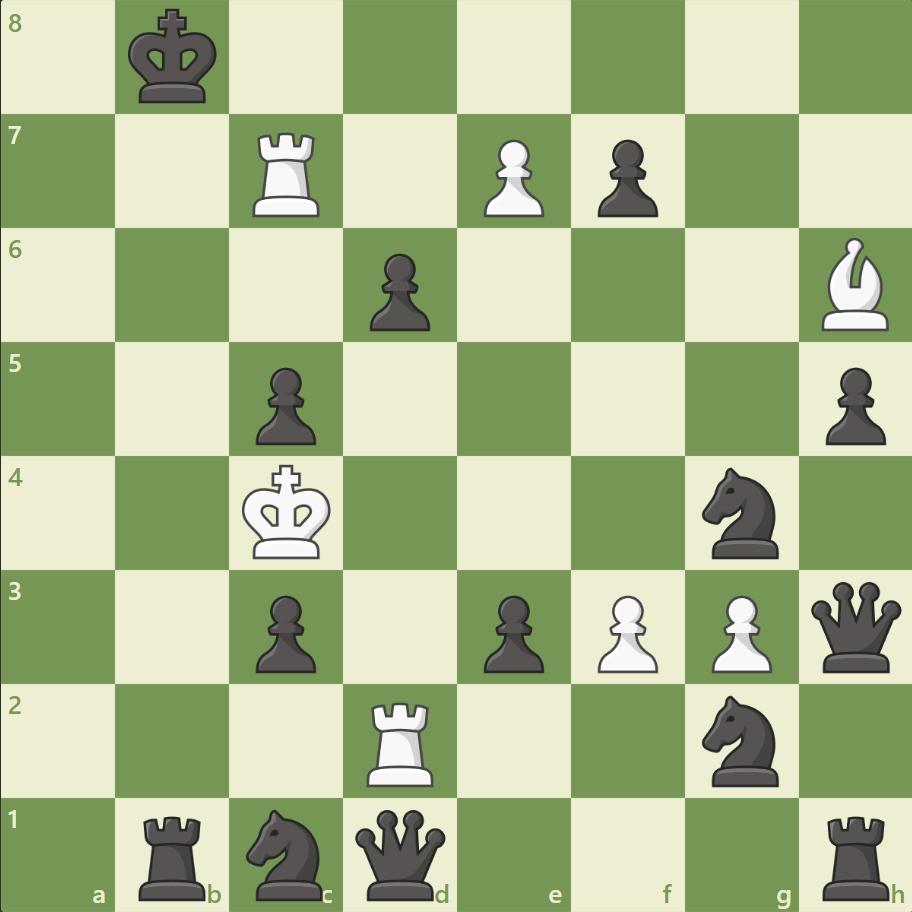B: (812, 233, 896, 336)
K: (238, 458, 338, 566)
P: (474, 132, 549, 223), (701, 586, 776, 677), (588, 586, 662, 677)
R: (246, 125, 329, 222), (360, 693, 442, 790)
k: (124, 4, 224, 112)
n: (692, 461, 789, 564), (692, 688, 789, 791), (238, 802, 335, 904)
p: (247, 359, 322, 450), (247, 586, 322, 677), (474, 586, 549, 677), (588, 132, 662, 223), (361, 246, 435, 337), (815, 359, 889, 450)
q: (805, 576, 904, 676), (351, 804, 450, 903)
r: (814, 806, 897, 904), (133, 806, 215, 904)
